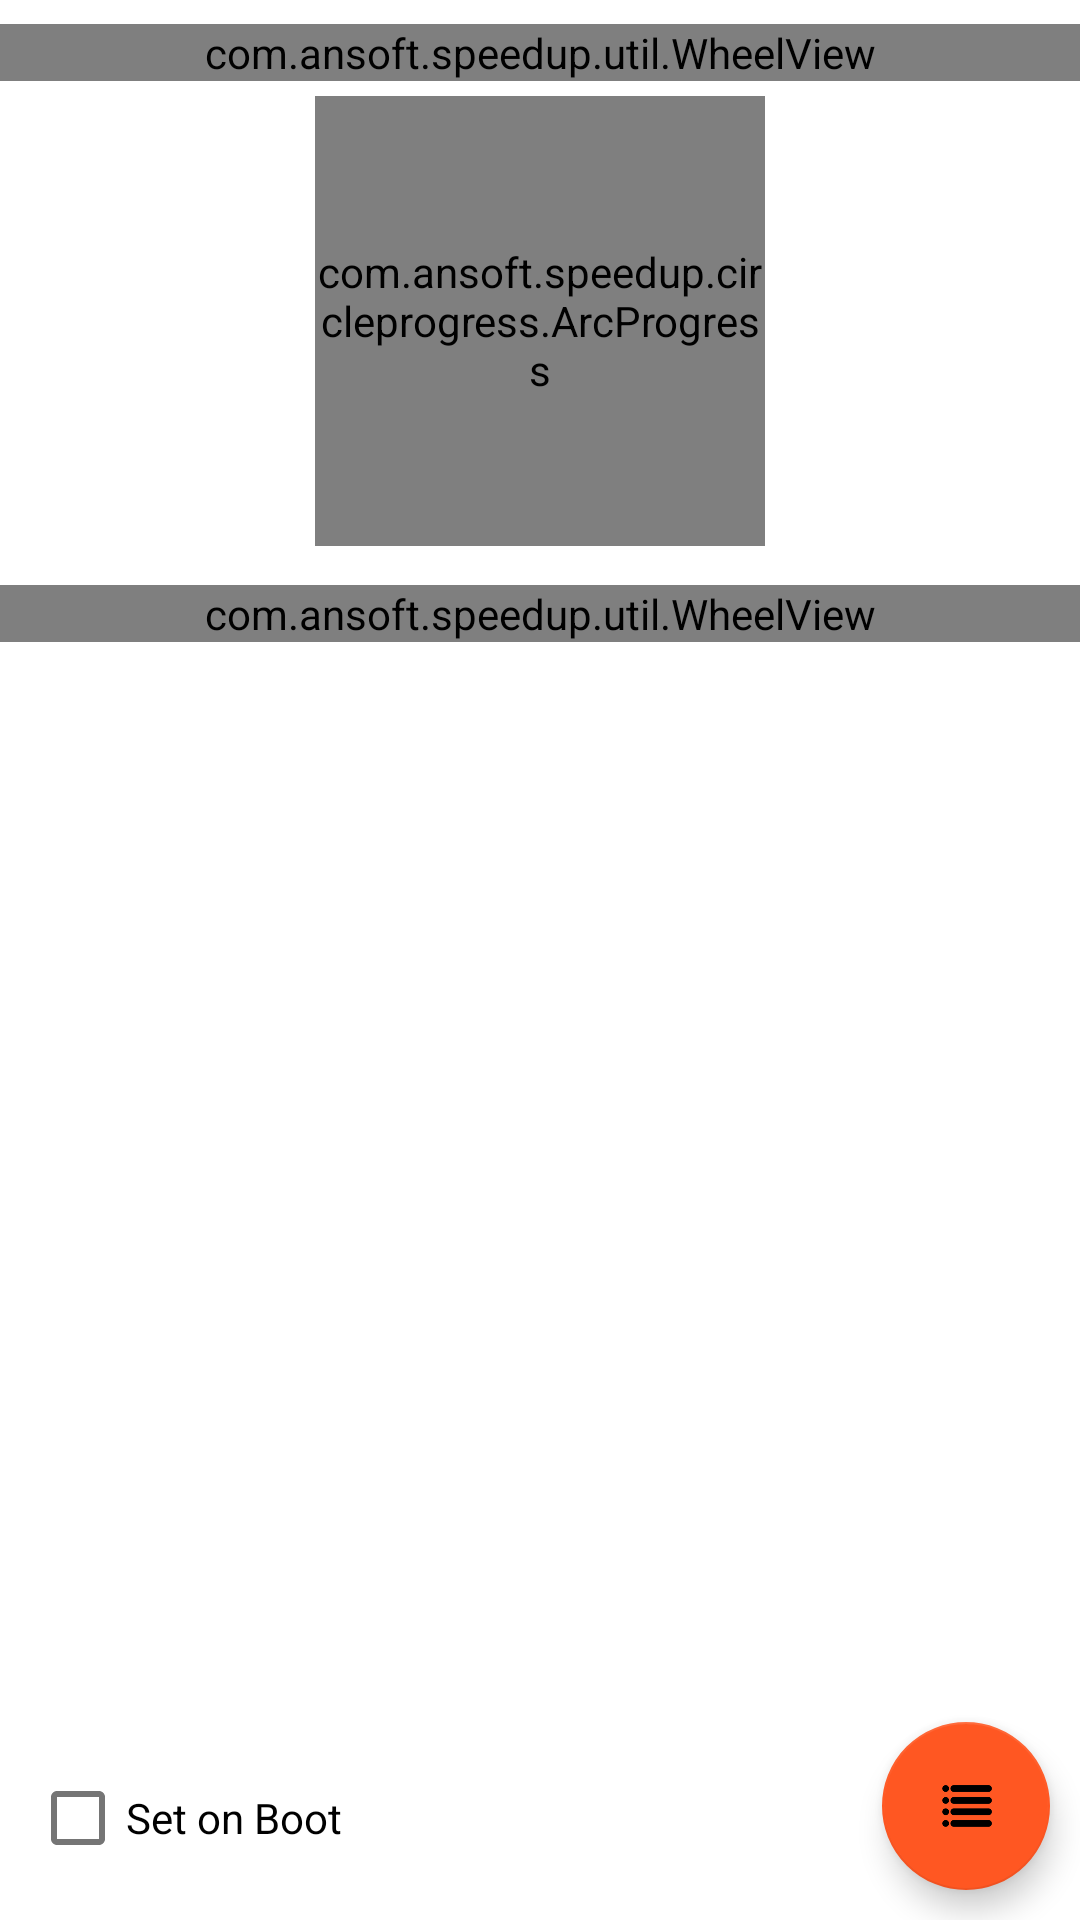

Icons on this 1080×1920 Android screen, each with its box as (x1, y1, x2, y2):
menu: (882, 1722, 1050, 1890)
